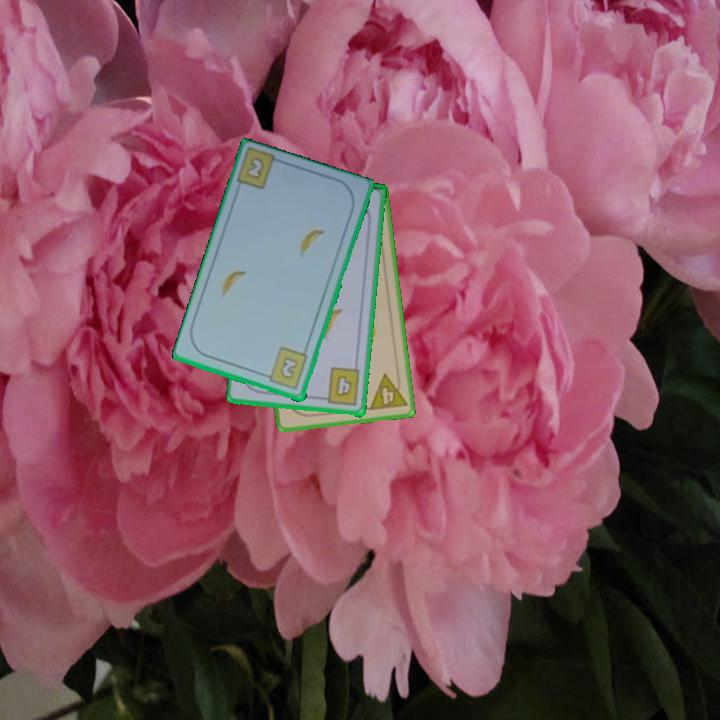2b: (260, 344, 311, 393), (242, 154, 267, 183)
4b: (317, 365, 363, 409)
4p: (365, 369, 410, 413)
